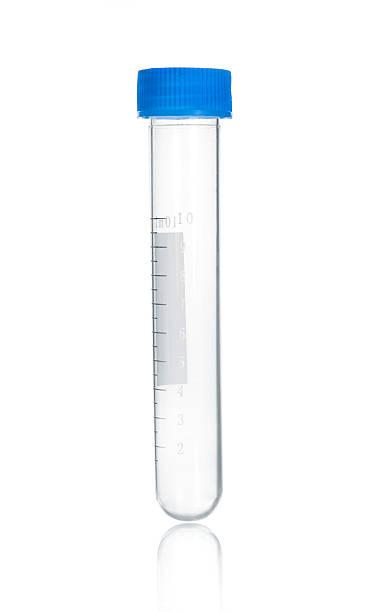Test tube: (132, 59, 231, 523)
